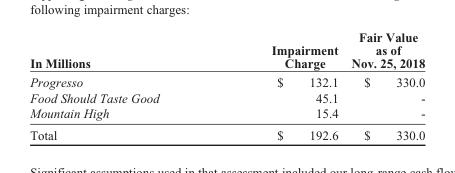table: (29, 29, 424, 141)
table column: (29, 29, 214, 141), (214, 29, 344, 141), (344, 29, 424, 141)
table column header: (29, 29, 424, 72)
table row: (29, 29, 424, 72), (29, 105, 424, 123), (29, 123, 424, 141), (29, 72, 424, 89), (29, 89, 424, 105)
